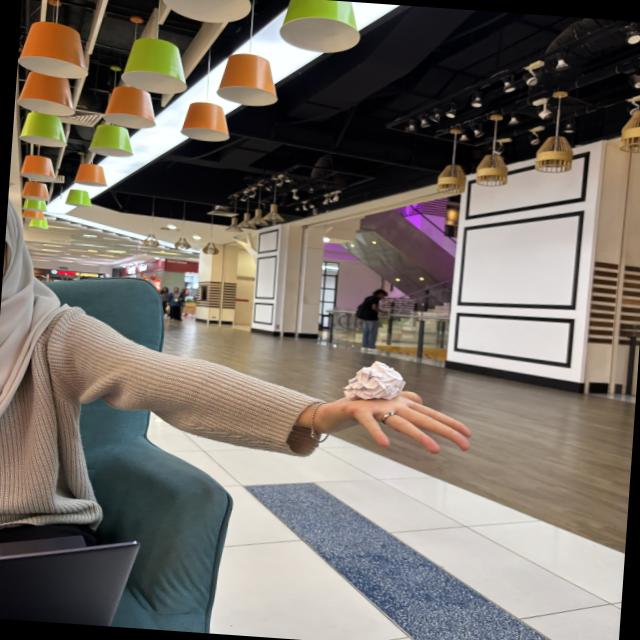crumpled_paper: (343, 356, 408, 402)
